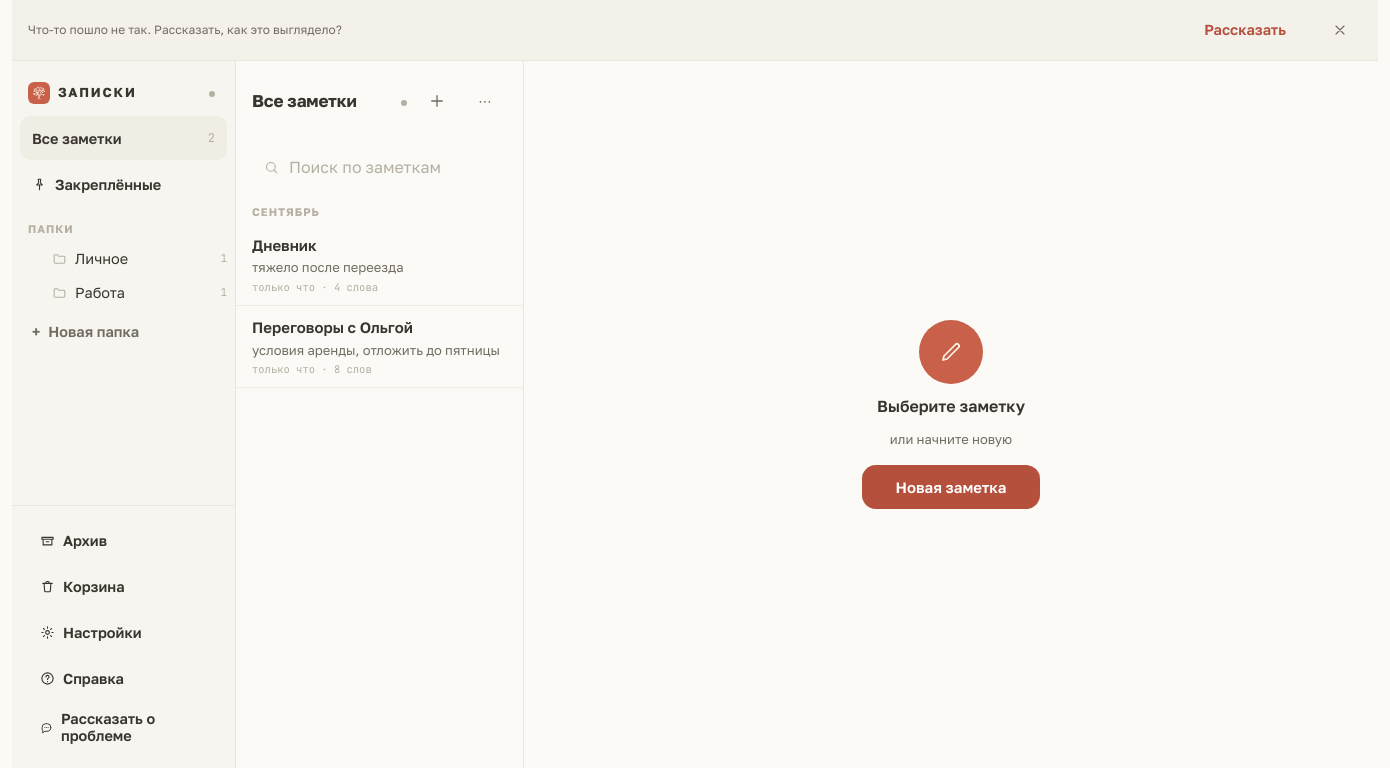
контекстная полоса › появляется после сбоя и ведёт в форму
Expected: the text "Что-то пошло не так. Рассказать, как это выглядело?" is shown, [28,22,342,37]
Click the button "Рассказать" at (1245, 30), box [1180,12,1310,48]
(page scrolled)
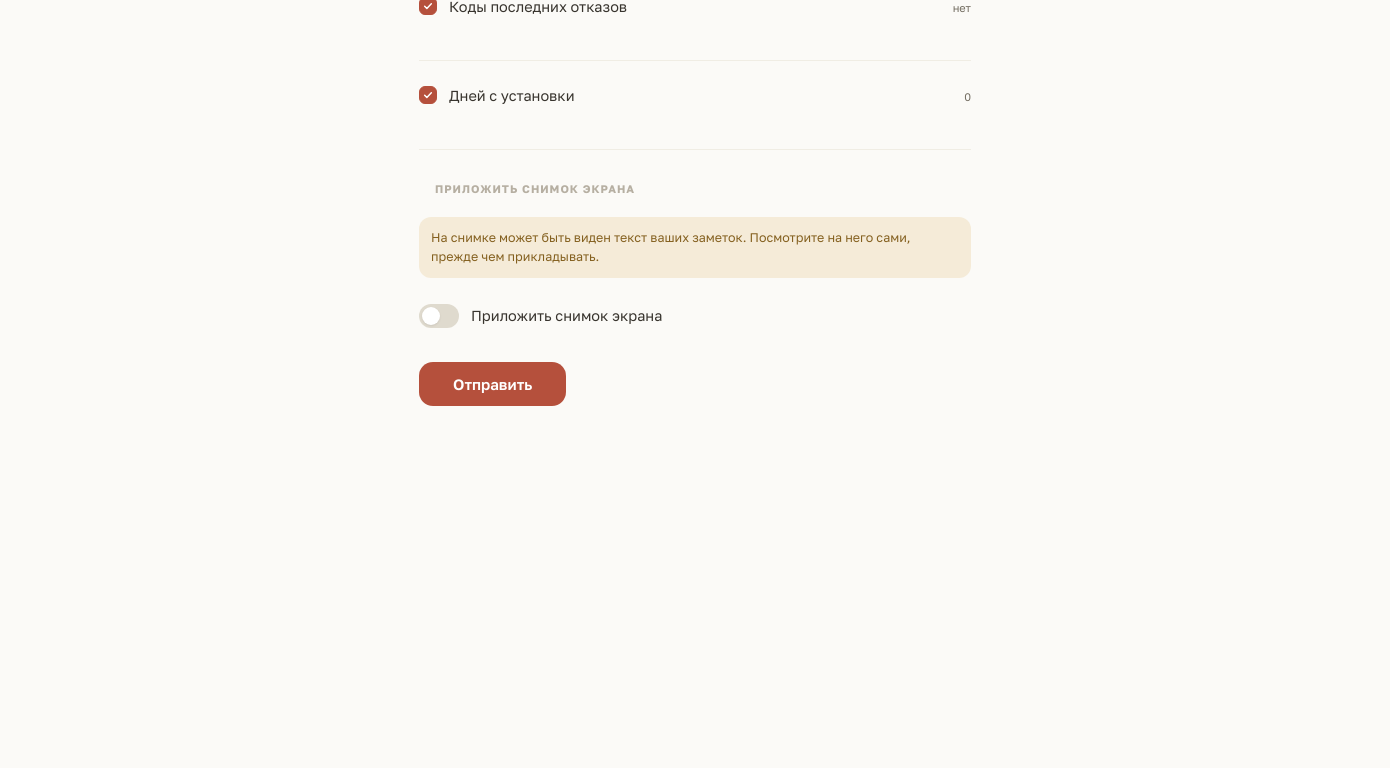
Result: the button "Отправить" is shown at [419,362,566,406]
